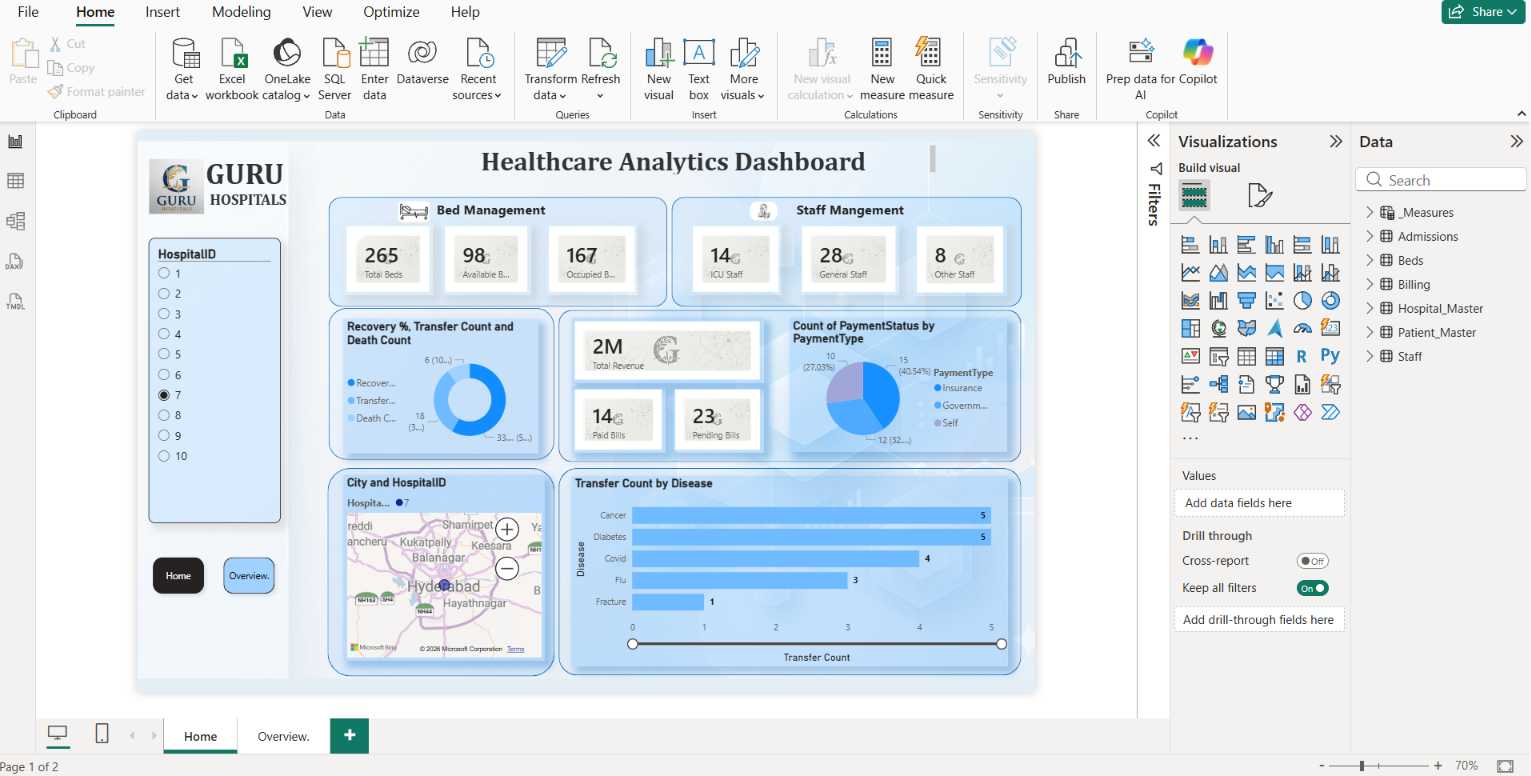

What the dashboard file says about the page in this screenshot:
{"tool":"powerbi","page":{"name":"Home","canvas":[1283,800],"ordinal":0},"visuals":[{"type":"shape","box":[273.1,251.1,322.5,216.8],"z":0},{"type":"shape","box":[272.1,479.9,324.4,297.6],"z":1000},{"type":"textbox","box":[77.1,28.6,161.4,114.3],"z":2000},{"type":"image","box":[15.7,38.6,80,78.6],"z":3000},{"type":"textbox","box":[394.7,13.8,751,50.9],"z":4000},{"type":"shape","box":[762.7,92.5,500,156.8],"z":5000},{"type":"shape","box":[273.5,92.5,483.9,156.8],"z":6000},{"type":"textbox","box":[294.9,92.5,420.9,49.6],"z":7000},{"type":"textbox","box":[788.2,92.5,443.7,49.6],"z":8000},{"type":"cardVisual","fields":{"Data":["_Measures.Total Beds"]},"box":[294.3,129.3,127.9,103.2],"z":9000},{"type":"cardVisual","fields":{"Data":["_Measures.Available Beds"]},"box":[434.6,129.3,127.9,103.2],"z":10000},{"type":"cardVisual","fields":{"Data":["_Measures.Occupied Beds"]},"box":[583.2,129.3,132,103.2],"z":11000},{"type":"cardVisual","fields":{"Data":["_Measures.ICU Staff"]},"box":[788.1,129.3,132,103.2],"z":12000},{"type":"cardVisual","fields":{"Data":["_Measures.Other Staff"]},"box":[1108.6,129.3,133.4,104.5],"z":13000},{"type":"cardVisual","fields":{"Data":["_Measures.General Staff"]},"box":[944.9,130.7,143,103.2],"z":14000},{"type":"donutChart","fields":{"Y":["_Measures.Recovery %","_Measures.Transfer Count","_Measures.Death Count"]},"box":[294.3,267.1,278.6,192.9],"z":15000},{"type":"shape","box":[601.9,254.7,660.9,217.2],"z":16000},{"type":"shape","box":[601.9,479.9,660.9,296.2],"z":17000},{"type":"cardVisual","fields":{"Data":["_Measures.Total Revenue"]},"box":[620.2,266.2,274.4,93.3],"z":18000},{"type":"cardVisual","fields":{"Data":["_Measures.Paid Bills"]},"box":[620.2,362.3,134.5,96.1],"z":19000},{"type":"cardVisual","fields":{"Data":["_Measures.Pending Bills"]},"box":[763,362.3,131.7,96.1],"z":20000},{"type":"pieChart","fields":{"Category":["Billing.PaymentType"],"Y":["CountNonNull(Billing.PaymentStatus)"]},"box":[931.7,266.2,311.5,192.1],"z":21000},{"type":"slicer","fields":{"Values":["Hospital_Master.HospitalID"]},"box":[15.7,151.4,188.6,407.1],"z":22000},{"type":"map","fields":{"Category":["Hospital_Master.City"],"Series":["Hospital_Master.HospitalID"]},"box":[294.9,490.6,288.2,265.4],"z":23000},{"type":"clusteredBarChart","fields":{"Category":["Patient_Master.Disease"],"Y":["_Measures.Transfer Count"]},"box":[620.2,491.3,623,271.7],"z":24000},{"type":"pageNavigator","box":[12.9,598.6,192.9,70],"z":25000},{"type":"image","box":[365.5,99.1,58.2,30],"z":26000},{"type":"image","box":[874.5,96.4,40,34.5],"z":27000}]}

Visuals, with their boxes on the page's 1283x800 design canvas (x1, y1, x2, y2). These are canvas units, not pixel positions in the 1531x776 screenshot, which may show the page scaled, cropped or inside an application window:
shape: x1=273 y1=251 x2=596 y2=468
shape: x1=272 y1=480 x2=596 y2=778
textbox: x1=77 y1=29 x2=238 y2=143
image: x1=16 y1=39 x2=96 y2=117
textbox: x1=395 y1=14 x2=1146 y2=65
shape: x1=763 y1=92 x2=1263 y2=249
shape: x1=274 y1=92 x2=757 y2=249
textbox: x1=295 y1=92 x2=716 y2=142
textbox: x1=788 y1=92 x2=1232 y2=142
cardVisual - _Measures.Total Beds: x1=294 y1=129 x2=422 y2=232
cardVisual - _Measures.Available Beds: x1=435 y1=129 x2=562 y2=232
cardVisual - _Measures.Occupied Beds: x1=583 y1=129 x2=715 y2=232
cardVisual - _Measures.ICU Staff: x1=788 y1=129 x2=920 y2=232
cardVisual - _Measures.Other Staff: x1=1109 y1=129 x2=1242 y2=234
cardVisual - _Measures.General Staff: x1=945 y1=131 x2=1088 y2=234
donutChart - _Measures.Recovery % x _Measures.Transfer Count: x1=294 y1=267 x2=573 y2=460
shape: x1=602 y1=255 x2=1263 y2=472
shape: x1=602 y1=480 x2=1263 y2=776
cardVisual - _Measures.Total Revenue: x1=620 y1=266 x2=895 y2=360
cardVisual - _Measures.Paid Bills: x1=620 y1=362 x2=755 y2=458
cardVisual - _Measures.Pending Bills: x1=763 y1=362 x2=895 y2=458
pieChart - Billing.PaymentType x CountNonNull(Billing.PaymentStatus): x1=932 y1=266 x2=1243 y2=458
slicer - Hospital_Master.HospitalID: x1=16 y1=151 x2=204 y2=558
map - Hospital_Master.City x Hospital_Master.HospitalID: x1=295 y1=491 x2=583 y2=756
clusteredBarChart - Patient_Master.Disease x _Measures.Transfer Count: x1=620 y1=491 x2=1243 y2=763
pageNavigator: x1=13 y1=599 x2=206 y2=669
image: x1=366 y1=99 x2=424 y2=129
image: x1=874 y1=96 x2=914 y2=131
